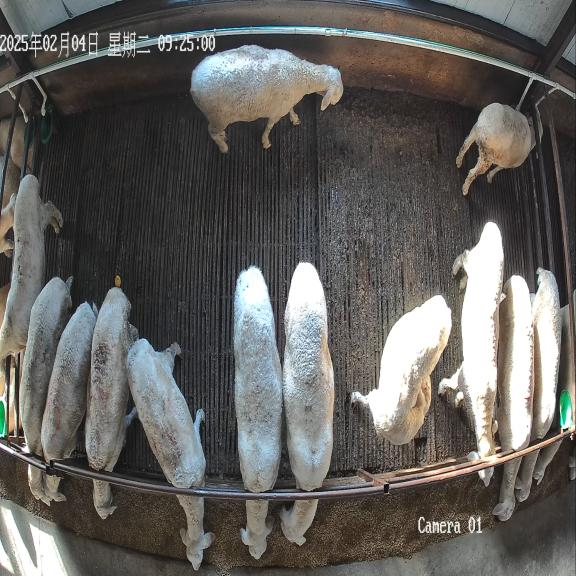drinking: (456, 103, 543, 195)
eating: (126, 339, 206, 570), (277, 262, 334, 548), (233, 266, 282, 561), (85, 286, 138, 524), (20, 277, 72, 500), (41, 302, 97, 499), (518, 268, 561, 506), (496, 276, 533, 523)
stand: (438, 221, 504, 486), (190, 45, 343, 153), (351, 295, 451, 445), (0, 175, 63, 360)
